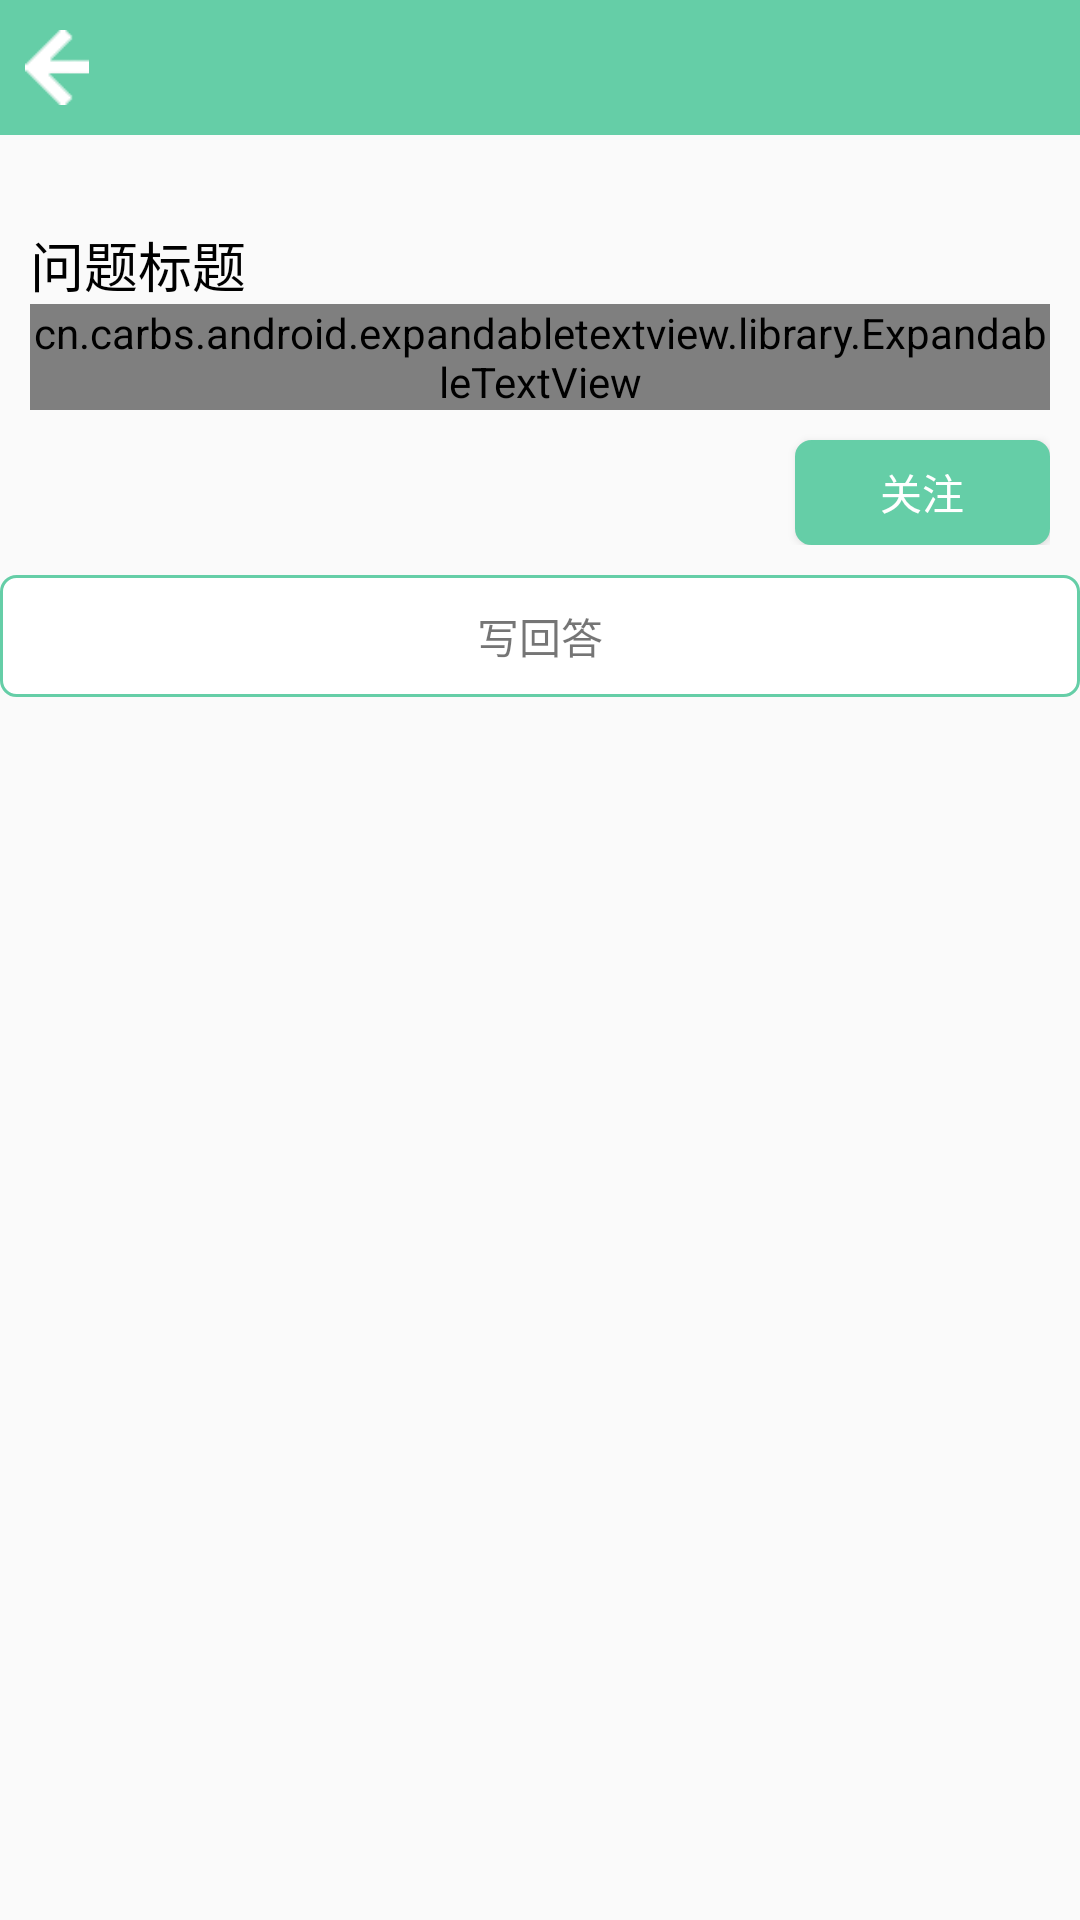

Icon click points for this 1080*1920 phone screenshot, format [x,y]:
arrow left: [57,67]
